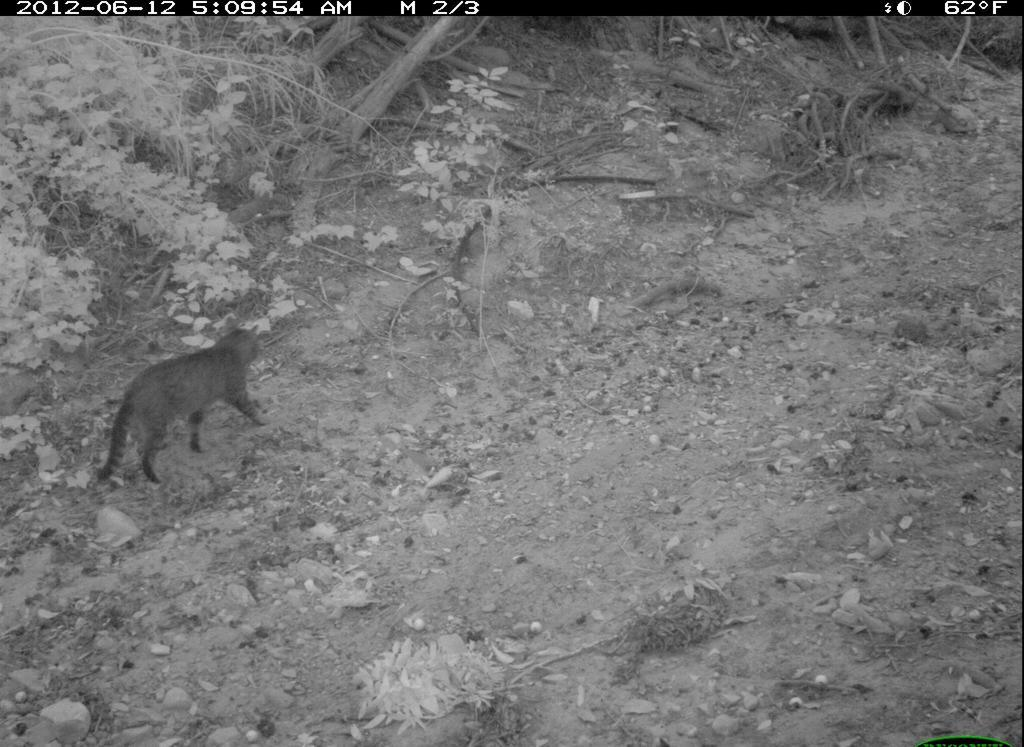cat: (90, 304, 283, 501)
